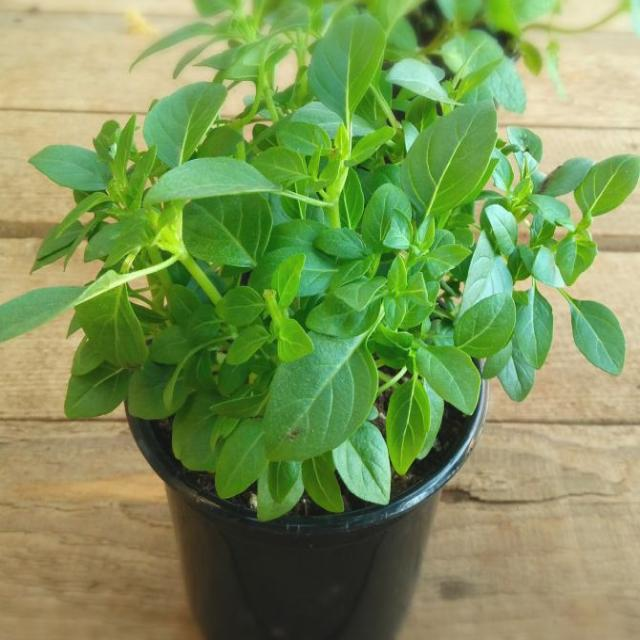Sweet Basil: (31, 5, 632, 508)
